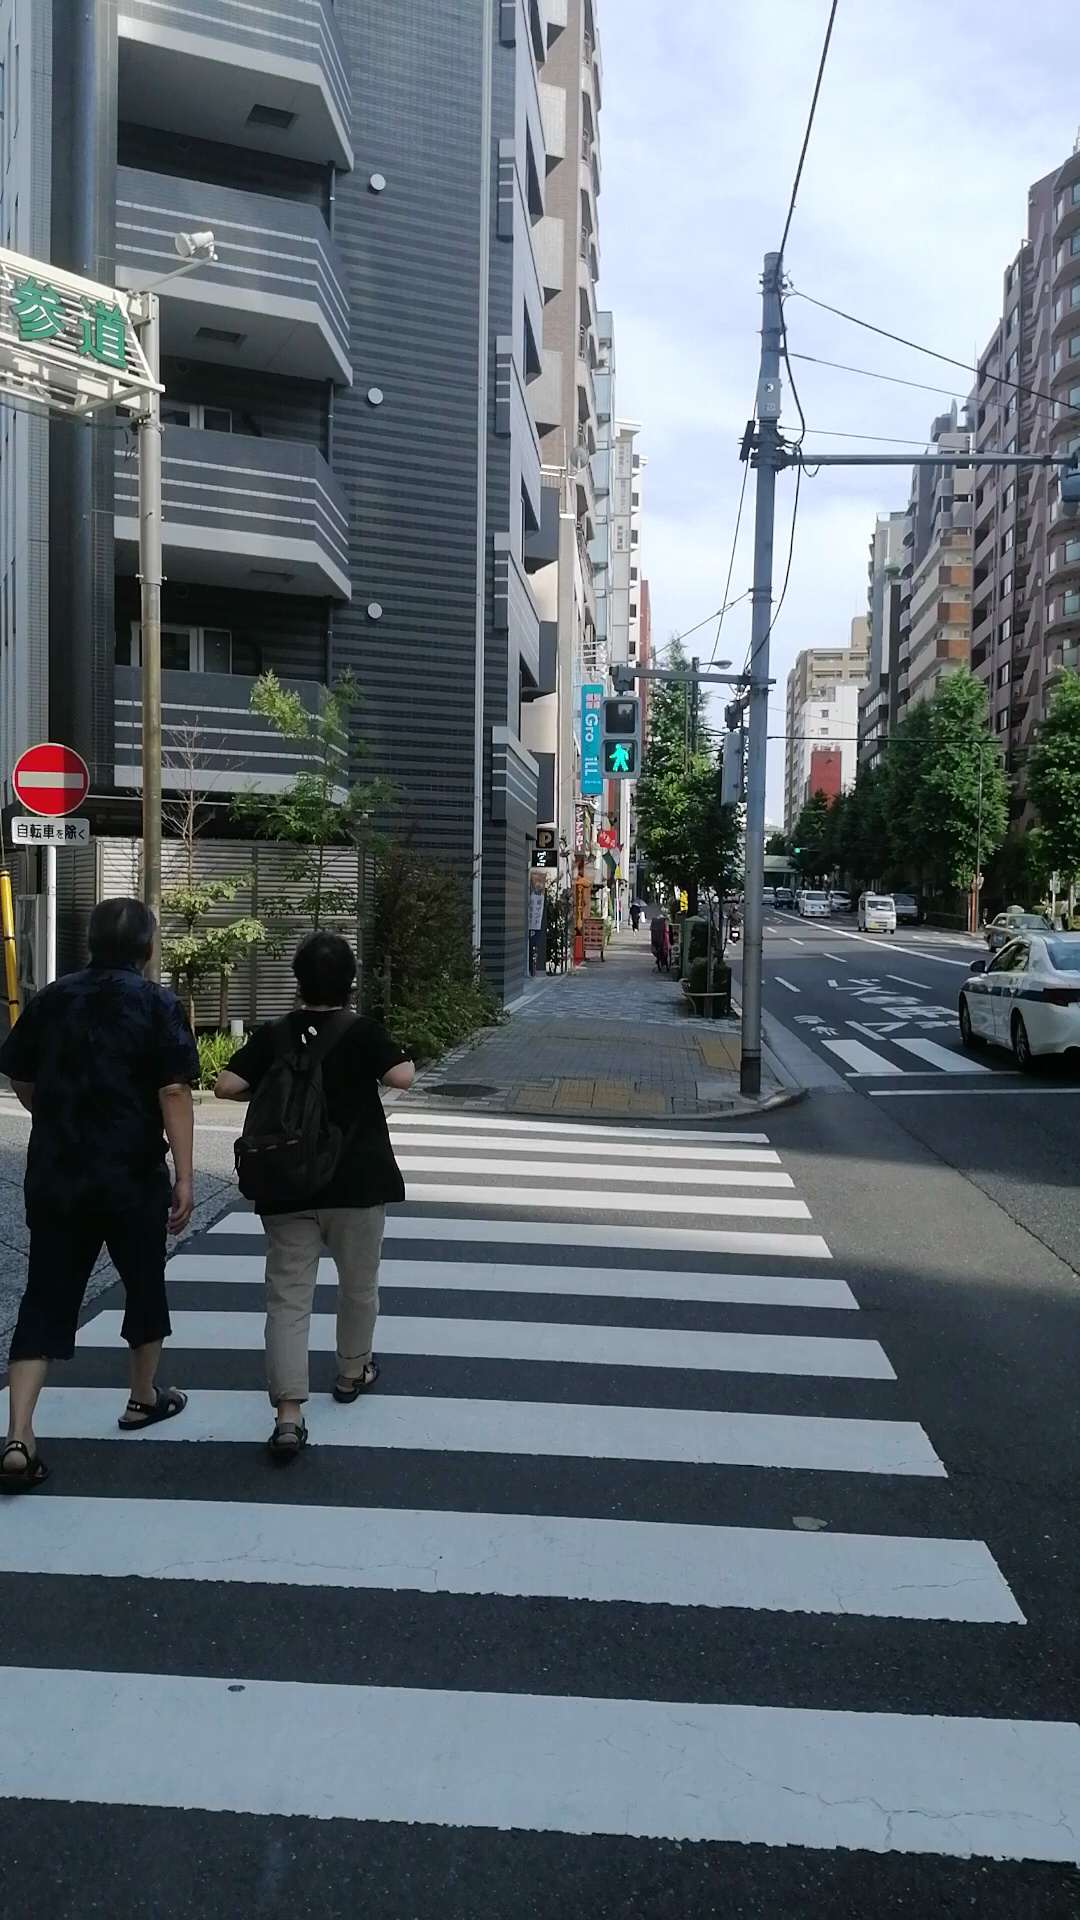green: (597, 694, 640, 781)
